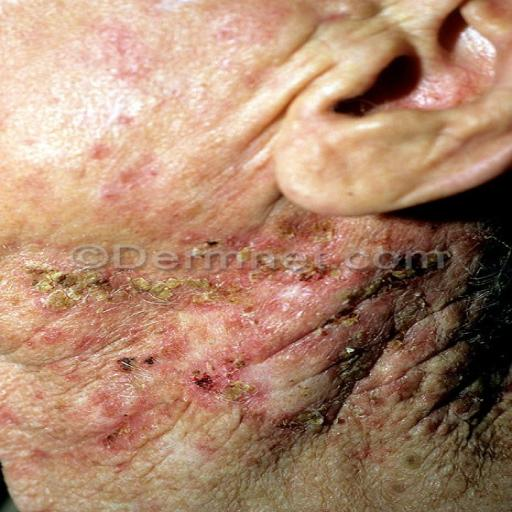Skin_Lesion: (427, 194, 512, 468), (307, 276, 403, 390), (52, 382, 164, 448), (88, 1, 157, 90), (29, 256, 119, 323), (132, 268, 223, 302), (282, 405, 343, 443), (190, 370, 253, 404), (162, 308, 199, 364), (0, 389, 17, 452), (88, 135, 117, 169), (0, 234, 18, 271)
